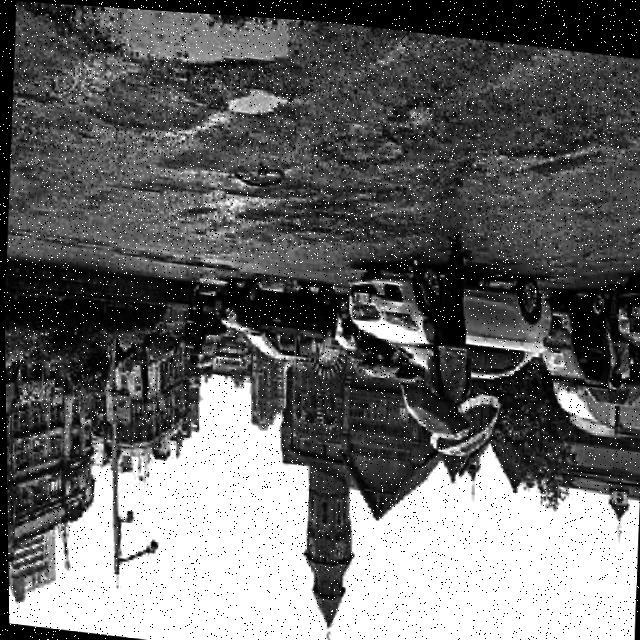pothole: (88, 5, 296, 80), (320, 122, 406, 172), (223, 80, 290, 124)
